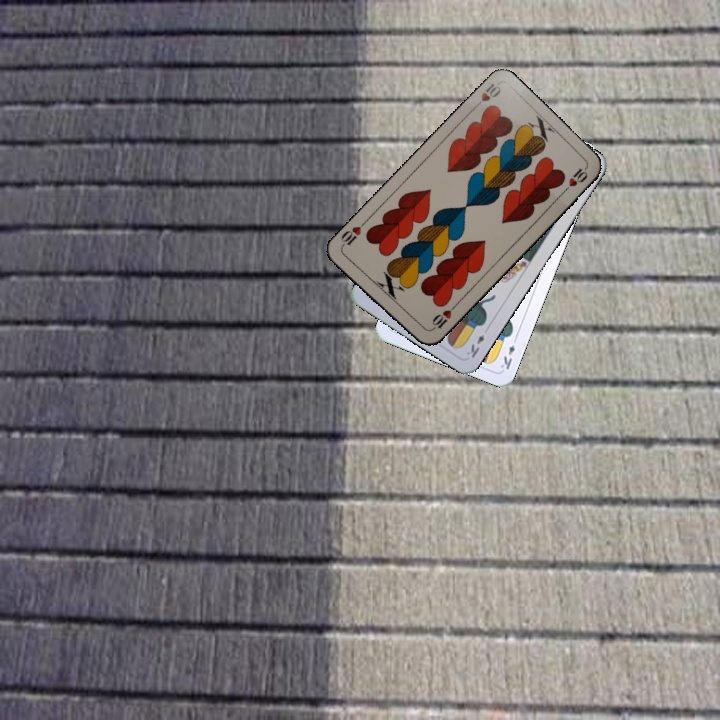EK: (496, 332, 520, 372), (462, 330, 487, 360)
H10: (468, 79, 504, 112), (426, 301, 458, 334)
